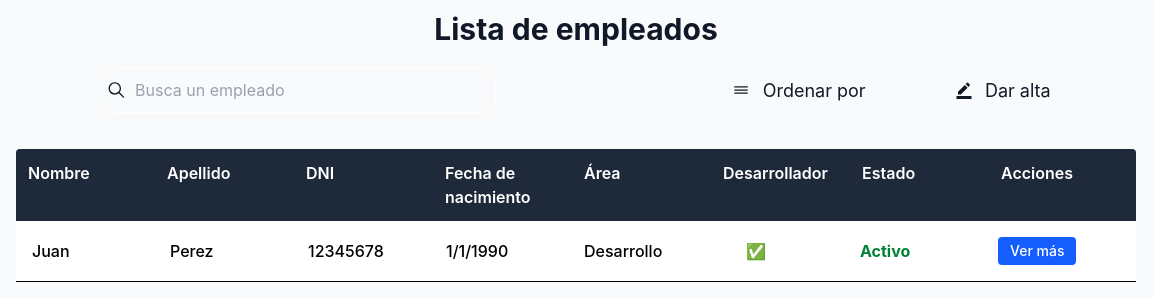
Workers component › debe filtrar por nombre
The width and height of the screenshot is (1153, 299).
Check: the text "Juan" is shown, box [32,241,70,261]
Type "Pedro" into the field with placeholder "Busca un empleado" at (309, 90), box [127,72,491,108]
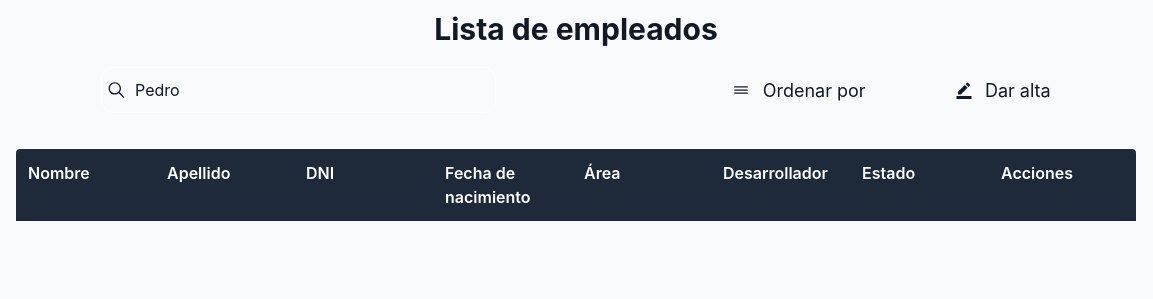
Check: the text "Juan" is gone
